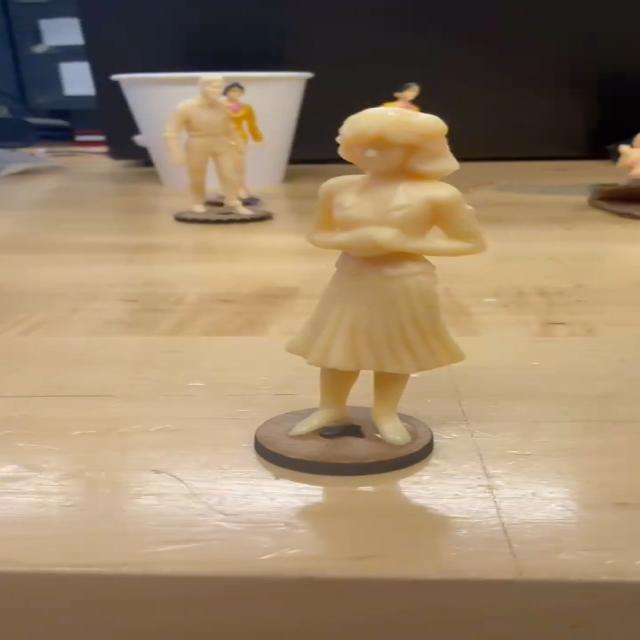Unauthorized: (288, 104, 487, 448)
